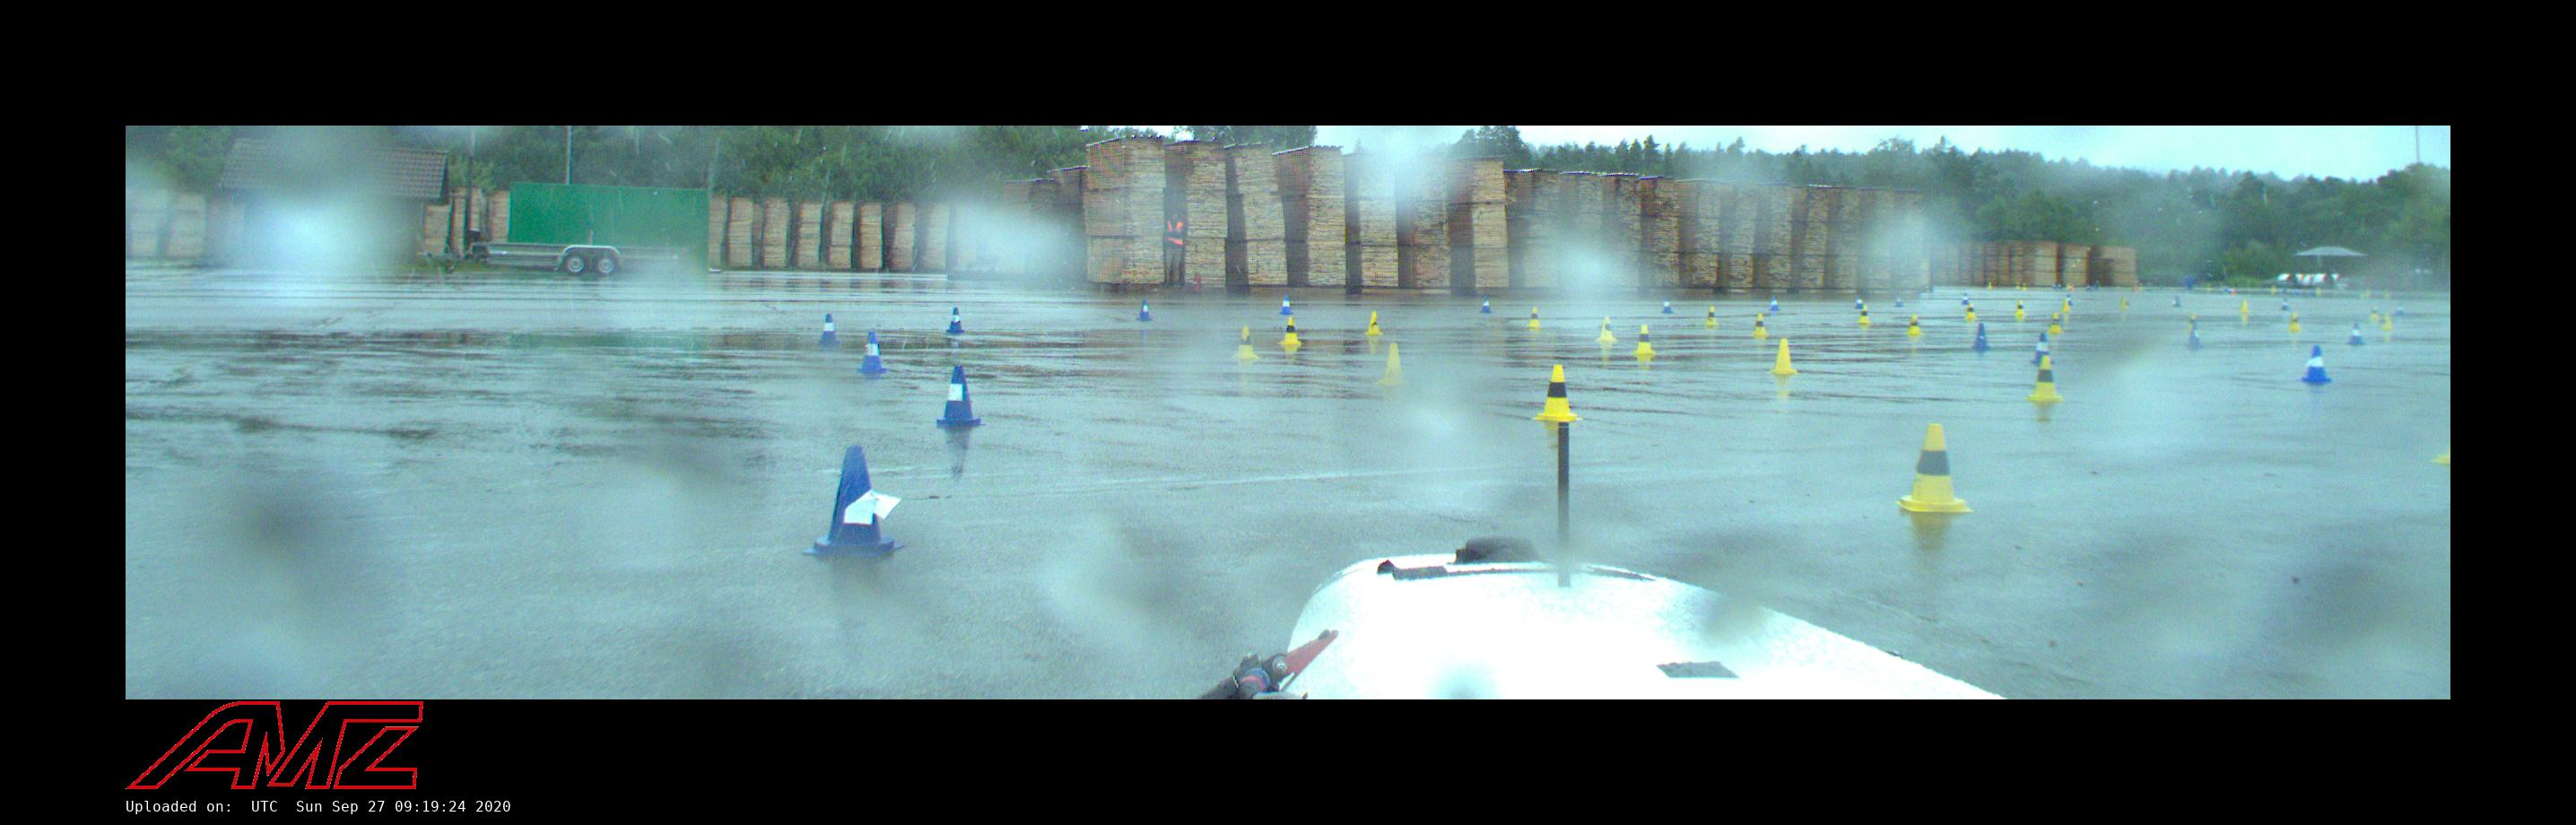blue_cone: (802, 445, 903, 557), (938, 366, 984, 425), (857, 333, 887, 373), (2302, 346, 2334, 383), (817, 314, 840, 346), (2031, 334, 2052, 364), (1969, 323, 1990, 352), (2187, 320, 2205, 350), (946, 308, 965, 333), (1137, 300, 1153, 321), (2348, 323, 2363, 344), (1279, 295, 1292, 315), (1479, 296, 1493, 314), (1767, 295, 1780, 310), (1661, 297, 1672, 314), (2281, 294, 2291, 309), (2171, 294, 2181, 308), (2395, 302, 2405, 317), (1894, 293, 1903, 308), (1961, 291, 1970, 305), (1855, 295, 1862, 307), (2092, 279, 2099, 290), (2056, 282, 2062, 290), (2086, 283, 2093, 291)
orange_cone: (2067, 283, 2074, 291), (2231, 286, 2236, 294)
yellow_cone: (1897, 425, 1971, 512), (1534, 365, 1582, 421), (2023, 353, 2059, 402), (1378, 344, 1410, 388), (1770, 338, 1797, 374), (1233, 326, 1259, 360), (1632, 325, 1657, 353), (1279, 317, 1301, 344), (1597, 317, 1615, 341), (1365, 312, 1383, 335), (1752, 313, 1768, 338), (1905, 315, 1923, 336), (2048, 314, 2062, 335), (1527, 307, 1542, 326), (2184, 315, 2197, 335), (1964, 301, 1978, 320), (1705, 307, 1718, 326), (2380, 312, 2394, 330), (2287, 314, 2301, 331), (1858, 306, 1870, 324), (2368, 305, 2381, 321), (2015, 300, 2025, 317), (2061, 299, 2072, 314), (2240, 299, 2249, 314), (2120, 296, 2128, 308), (2269, 285, 2276, 296), (2020, 281, 2027, 291), (1986, 280, 1993, 289), (2014, 280, 2020, 289), (2139, 282, 2143, 289)
